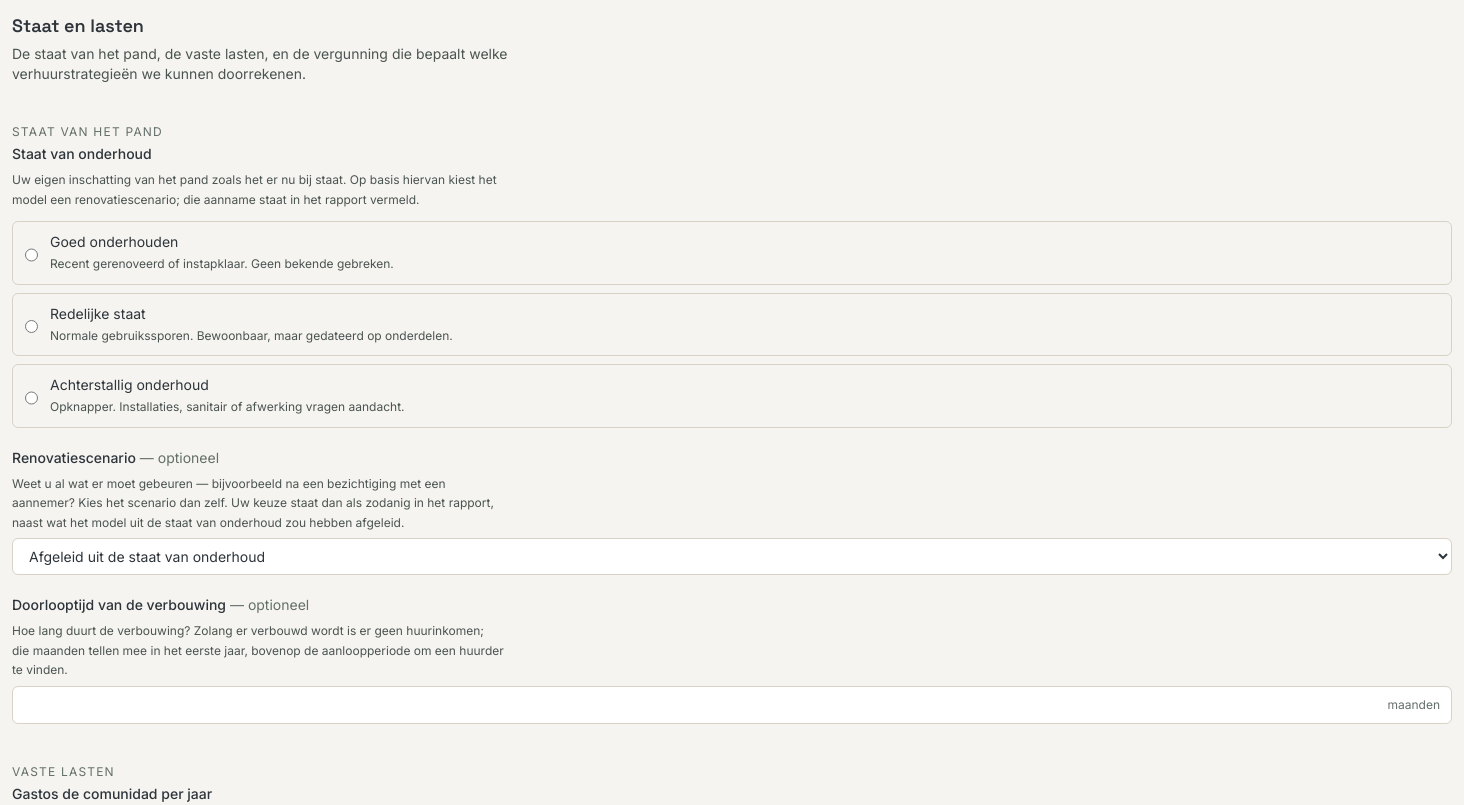
it: StaatEnLastenForm - renovatieduur (fase C stap 2) › names the tier's own default in the hint once a condition is chosen
Click the radio button labelled "Redelijke staat".
click(32, 326)  # box [25,308,38,345]
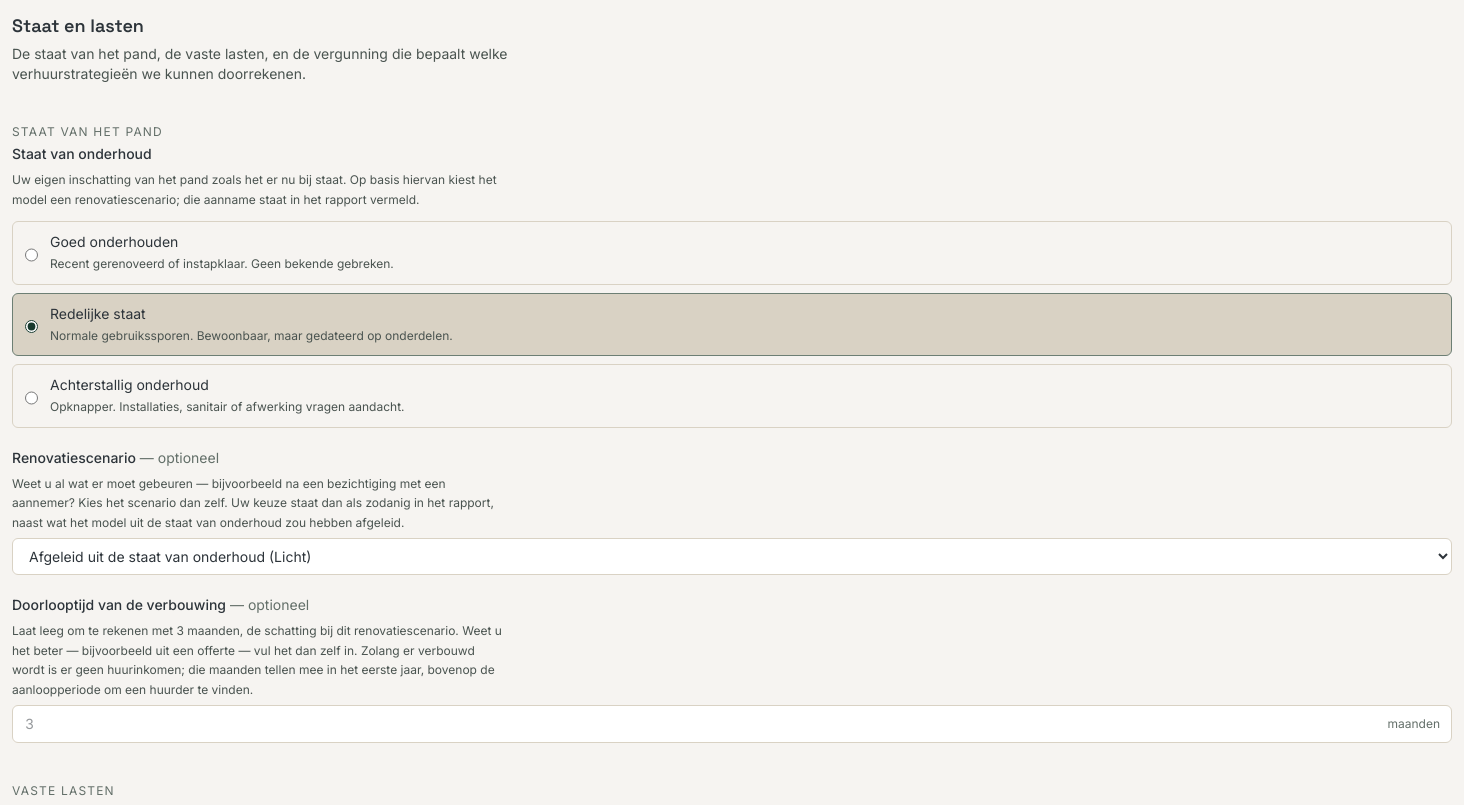
Expected: the text "Laat leeg om te rekenen met 3 maanden" is shown, [12,623,502,696]
